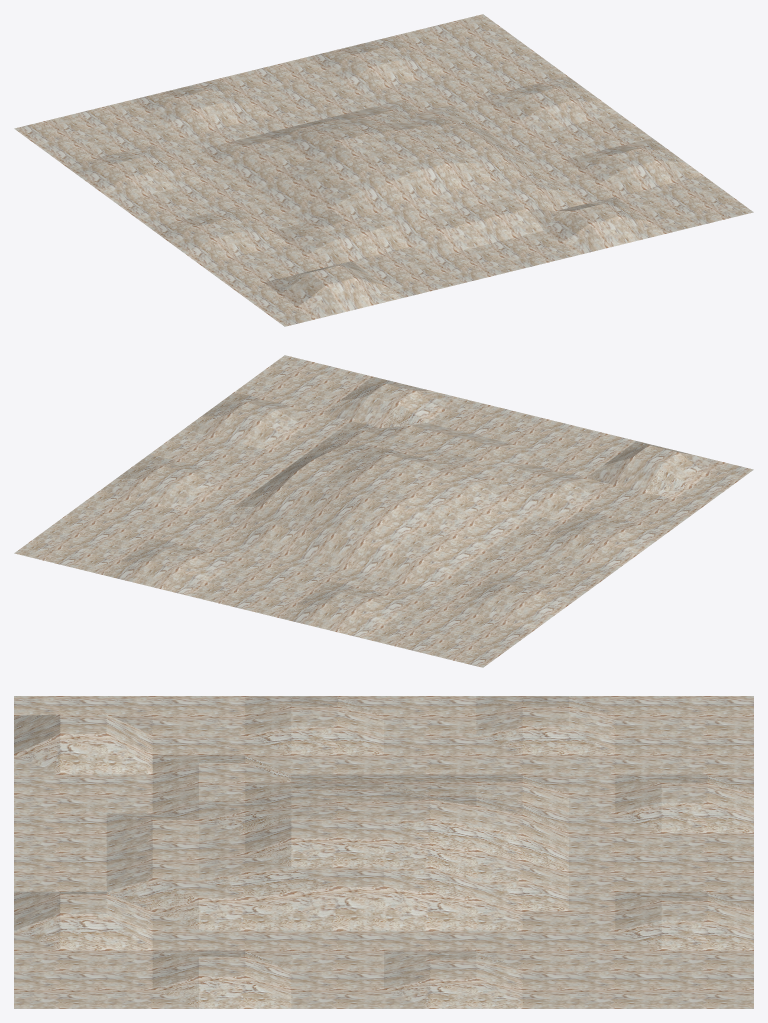
Rendered from courser3a.obj.
3 views of the same model, one above another, from view 1: azimuth 30°, elevation 25°; view 2: azimuth 150°, elevation 25°; view 3: azimuth 270°, elevation 25° (orthographic). The views are drawn at different scales.
Parts seen in each view (by area): view 1: Plane; view 2: Plane; view 3: Plane.
Part boxes in pixels (left/top/right/bottom): Plane: left=14, top=14, right=753, bottom=326; Plane: left=14, top=355, right=753, bottom=667; Plane: left=14, top=696, right=753, bottom=1008.
Bounding box in the file's own units: 40 × 2.01 × 40.
Materials: 1 (1 with a texture image).
